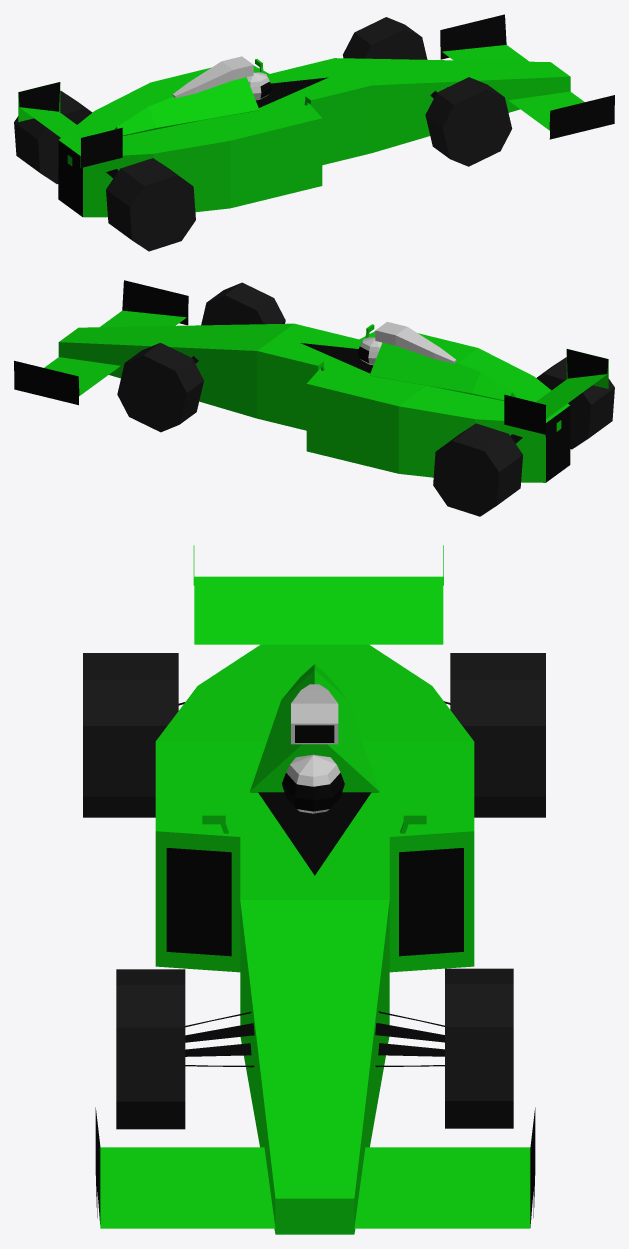
The model's file is f1_car3.obj.
The picture shows the model from 3 angles, top to bottom: view 1: azimuth 30°, elevation 25°; view 2: azimuth 150°, elevation 25°; view 3: azimuth 270°, elevation 25°; orthographic projection. The views are drawn at different scales.
Parts seen in each view (by area): view 1: f1_Red, f1_Black, Bone.005, Bone.001, Bone.002, Bone.006, f1_White, f1_Tires; view 2: f1_Red, f1_Black, Bone.002, Bone.006, Bone.001, Bone.005, f1_White; view 3: f1_Red, f1_Black, Bone.001, Bone.002, Bone.005, Bone.006, f1_White.
Part boxes in pixels (bbox=[...]): f1_Red: bbox=[18, 45, 584, 217]; f1_Black: bbox=[18, 14, 614, 216]; Bone.005: bbox=[425, 77, 512, 166]; Bone.001: bbox=[106, 158, 195, 251]; Bone.002: bbox=[14, 91, 92, 183]; Bone.006: bbox=[343, 17, 427, 59]; f1_White: bbox=[172, 56, 269, 100]; f1_Tires: bbox=[144, 186, 193, 240]; f1_Red: bbox=[44, 310, 608, 482]; f1_Black: bbox=[14, 280, 608, 482]; Bone.002: bbox=[433, 423, 522, 516]; Bone.006: bbox=[117, 343, 203, 432]; Bone.001: bbox=[536, 357, 614, 449]; Bone.005: bbox=[201, 282, 285, 325]; f1_White: bbox=[360, 322, 456, 365]; f1_Red: bbox=[100, 545, 530, 1234]; f1_Black: bbox=[95, 701, 535, 1227]; Bone.001: bbox=[83, 653, 178, 817]; Bone.002: bbox=[450, 653, 545, 817]; Bone.005: bbox=[116, 969, 185, 1129]; Bone.006: bbox=[445, 968, 513, 1128]; f1_White: bbox=[286, 684, 340, 813].
Size of the model in its own units: 15.76 by 3.3 by 6.2.
